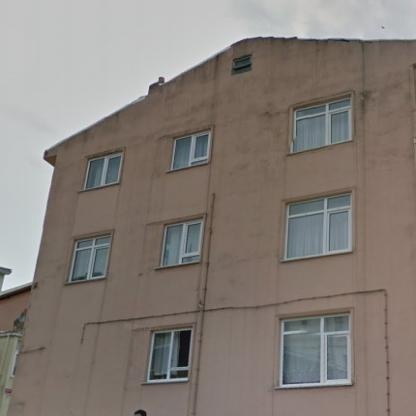window: (283, 316, 348, 384), (286, 194, 349, 258), (292, 99, 349, 151), (150, 330, 190, 380), (70, 235, 111, 281), (162, 221, 201, 266), (172, 133, 208, 168), (86, 155, 120, 188)
